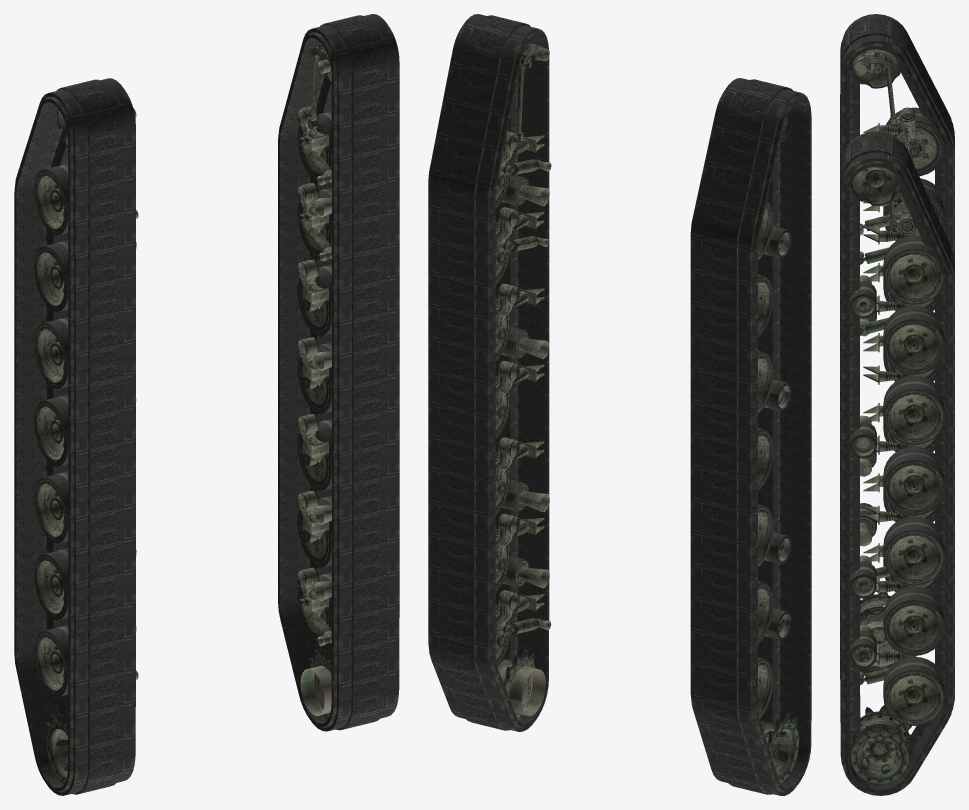
File: Chassis.glb
3 renders of one model, left to right at view 1: azimuth 30°, elevation 25°; view 2: azimuth 150°, elevation 25°; view 3: azimuth 270°, elevation 25°, orthographic. The views are drawn at different scales.
Visible parts, largest first — view 1: set_0_group_0, set_1_group_0, set_3_group_0, set_2_group_0; view 2: set_0_group_0, set_1_group_0, set_3_group_0, set_2_group_0; view 3: set_3_group_0, set_1_group_0, set_2_group_0, set_0_group_0.
Boxes of the visible parts, x1,y1,x2,y2 form: set_0_group_0: (14,78,135,795); set_1_group_0: (278,14,399,731); set_3_group_0: (297,43,389,719); set_2_group_0: (34,108,138,783); set_0_group_0: (690,78,811,795); set_1_group_0: (428,14,549,731); set_3_group_0: (495,43,551,720); set_2_group_0: (758,108,799,783); set_3_group_0: (850,166,944,785); set_1_group_0: (840,131,954,795); set_2_group_0: (850,49,944,667); set_0_group_0: (840,14,954,675).
Bounding box in the file's own units: 3.5 × 7.14 × 1.16.
Materials: 4 (4 with a texture image).
